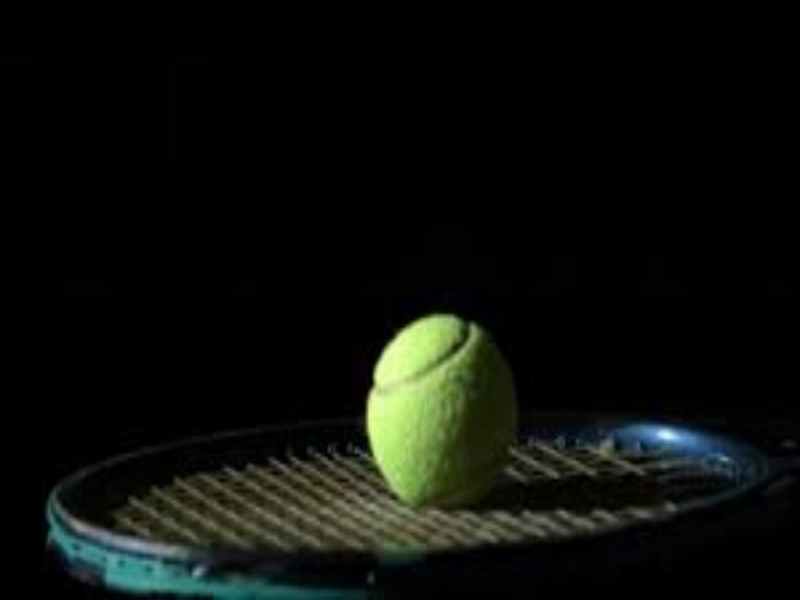tennis ball: (351, 293, 533, 513)
